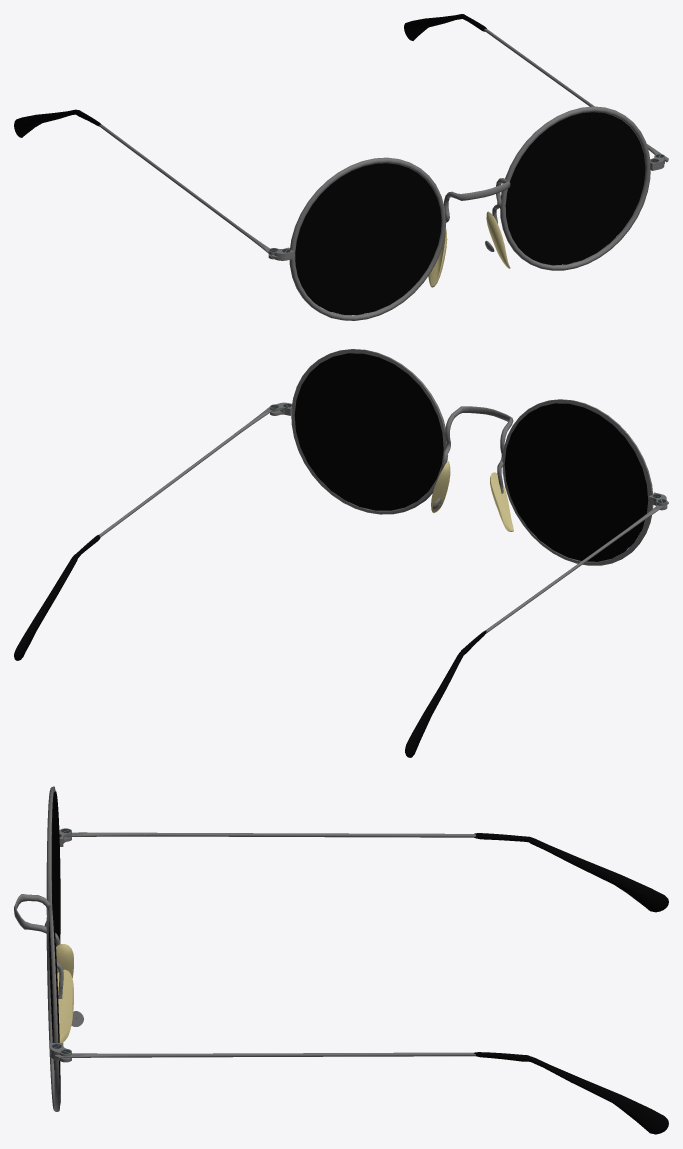
The model's file is glasses.obj.
The picture shows the model from 3 angles, top to bottom: view 1: azimuth 30°, elevation 25°; view 2: azimuth 150°, elevation 25°; view 3: azimuth 270°, elevation 25°; orthographic projection. The views are drawn at different scales.
Visible parts, largest first — view 1: left_lens, left_lens01, left_frame, Box06, Capsule01, Cylinder03, nose_connection, Capsule02, left_ear_silinder, nose_plastic; view 2: left_lens01, left_lens, Box06, left_frame, Capsule01, Capsule02, nose_connection, Cylinder03, left_ear_silinder, nose_plasticright; view 3: Capsule01, Capsule02, left_ear_silinder, Cylinder03, left_frame, left_lens, nose_plastic, nose_connection, Box06, left_lens01.
Boxes of the visible parts, x1=… form: left_lens: x1=295, y1=163, x2=441, y2=314; left_lens01: x1=505, y1=112, x2=645, y2=265; left_frame: x1=500, y1=106, x2=650, y2=270; Box06: x1=289, y1=157, x2=445, y2=320; Capsule01: x1=14, y1=109, x2=100, y2=137; Cylinder03: x1=99, y1=124, x2=278, y2=258; nose_connection: x1=444, y1=178, x2=510, y2=223; Capsule02: x1=404, y1=14, x2=486, y2=40; left_ear_silinder: x1=484, y1=28, x2=668, y2=162; nose_plastic: x1=486, y1=211, x2=510, y2=268; left_lens01: x1=294, y1=353, x2=443, y2=510; left_lens: x1=504, y1=403, x2=648, y2=561; Box06: x1=502, y1=399, x2=653, y2=565; left_frame: x1=291, y1=349, x2=447, y2=514; Capsule01: x1=405, y1=630, x2=486, y2=757; Capsule02: x1=14, y1=534, x2=100, y2=660; nose_connection: x1=441, y1=406, x2=513, y2=493; Cylinder03: x1=485, y1=501, x2=668, y2=633; left_ear_silinder: x1=99, y1=404, x2=275, y2=537; nose_plasticright: x1=490, y1=472, x2=513, y2=531; Capsule01: x1=474, y1=833, x2=668, y2=912; Capsule02: x1=474, y1=1052, x2=668, y2=1134; left_ear_silinder: x1=55, y1=1052, x2=475, y2=1058; Cylinder03: x1=66, y1=832, x2=475, y2=837; left_frame: x1=46, y1=905, x2=59, y2=1111; left_lens: x1=51, y1=791, x2=60, y2=943; nose_plastic: x1=57, y1=969, x2=73, y2=1042; nose_connection: x1=14, y1=894, x2=63, y2=998; Box06: x1=46, y1=786, x2=55, y2=914; left_lens01: x1=49, y1=909, x2=60, y2=1105.
Size of the model in its own units: 232 by 89.26 by 283.
